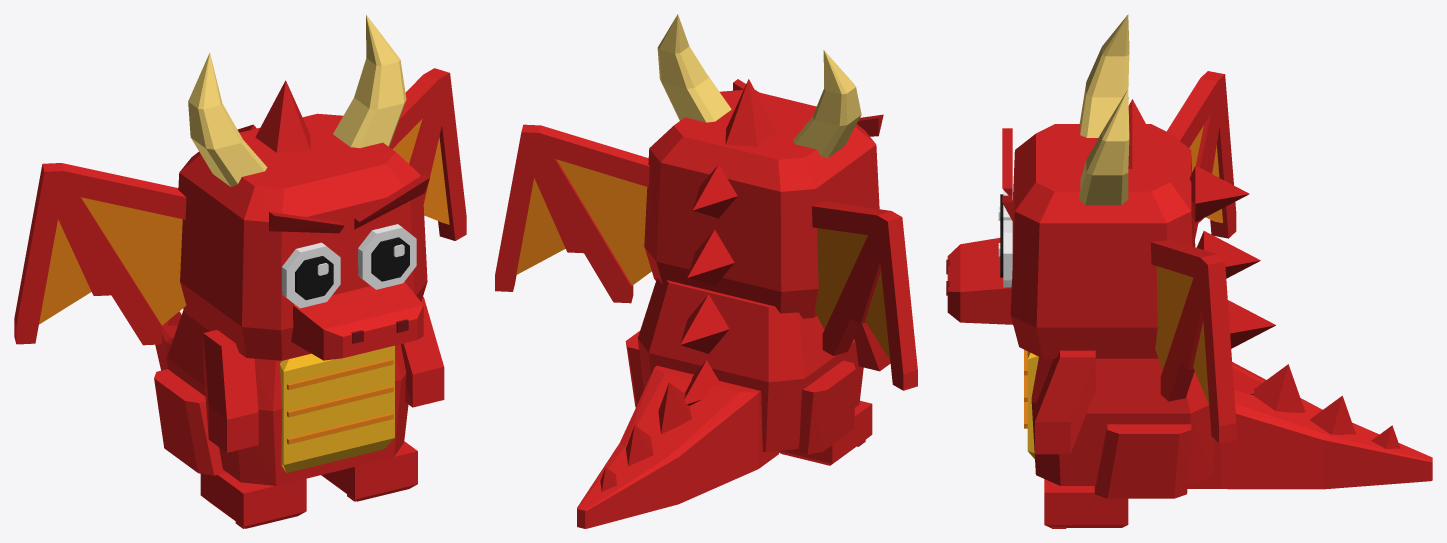
The model's file is Dragon.fbx.
The picture shows the model from 3 angles, left to right: view 1: azimuth 30°, elevation 25°; view 2: azimuth 150°, elevation 25°; view 3: azimuth 270°, elevation 25°; orthographic projection. The views are drawn at different scales.
Visible parts, largest first — view 1: Dragon, Dragon_WingRibs, Dragon_Legs, Dragon_Wings, Dragon_Belly, Dragon_Horns, Dragon_Arms, Dragon_Snout, Dragon_Eyes, Dragon_Pupils, Dragon_Brow, Dragon_Crest (+2 smaller); view 2: Dragon, Dragon_WingRibs, Dragon_Tail, Dragon_Wings, Dragon_Horns, Dragon_Spines, Dragon_Legs, Dragon_Crest, Dragon_Arms, Dragon_Brow; view 3: Dragon, Dragon_WingRibs, Dragon_Tail, Dragon_Legs, Dragon_Spines, Dragon_Horns, Dragon_Arms, Dragon_Snout, Dragon_Wings, Dragon_Crest, Dragon_Brow, Dragon_Eyes (+1 smaller).
Part boxes in pixels (x1,y1,x2,y2): Dragon: [167, 113, 427, 485]; Dragon_WingRibs: [14, 68, 466, 345]; Dragon_Legs: [154, 369, 417, 528]; Dragon_Wings: [39, 119, 449, 325]; Dragon_Belly: [279, 345, 394, 472]; Dragon_Horns: [188, 14, 406, 187]; Dragon_Arms: [203, 296, 444, 452]; Dragon_Snout: [291, 281, 423, 360]; Dragon_Eyes: [282, 224, 416, 308]; Dragon_Pupils: [295, 237, 409, 300]; Dragon_Brow: [269, 174, 429, 233]; Dragon_Crest: [255, 80, 310, 152]; Dragon: [637, 90, 879, 452]; Dragon_WingRibs: [495, 124, 917, 390]; Dragon_Tail: [577, 365, 778, 528]; Dragon_Wings: [516, 159, 890, 359]; Dragon_Horns: [657, 14, 861, 158]; Dragon_Spines: [600, 164, 737, 491]; Dragon_Legs: [625, 331, 872, 465]; Dragon_Crest: [725, 79, 776, 146]; Dragon_Arms: [854, 322, 890, 371]; Dragon_Brow: [733, 79, 883, 136]; Dragon: [1010, 124, 1214, 485]; Dragon_WingRibs: [1151, 71, 1236, 443]; Dragon_Tail: [1187, 362, 1432, 489]; Dragon_Legs: [1044, 424, 1191, 528]; Dragon_Spines: [1189, 165, 1400, 448]; Dragon_Horns: [1079, 14, 1129, 205]; Dragon_Arms: [1035, 350, 1095, 454]; Dragon_Snout: [947, 238, 1012, 324]; Dragon_Wings: [1155, 125, 1222, 404]; Dragon_Crest: [1128, 99, 1165, 169]; Dragon_Brow: [1002, 128, 1012, 220]; Dragon_Eyes: [998, 190, 1012, 287].
Size of the model in its own units: 4.85 by 4.6 by 4.63.
